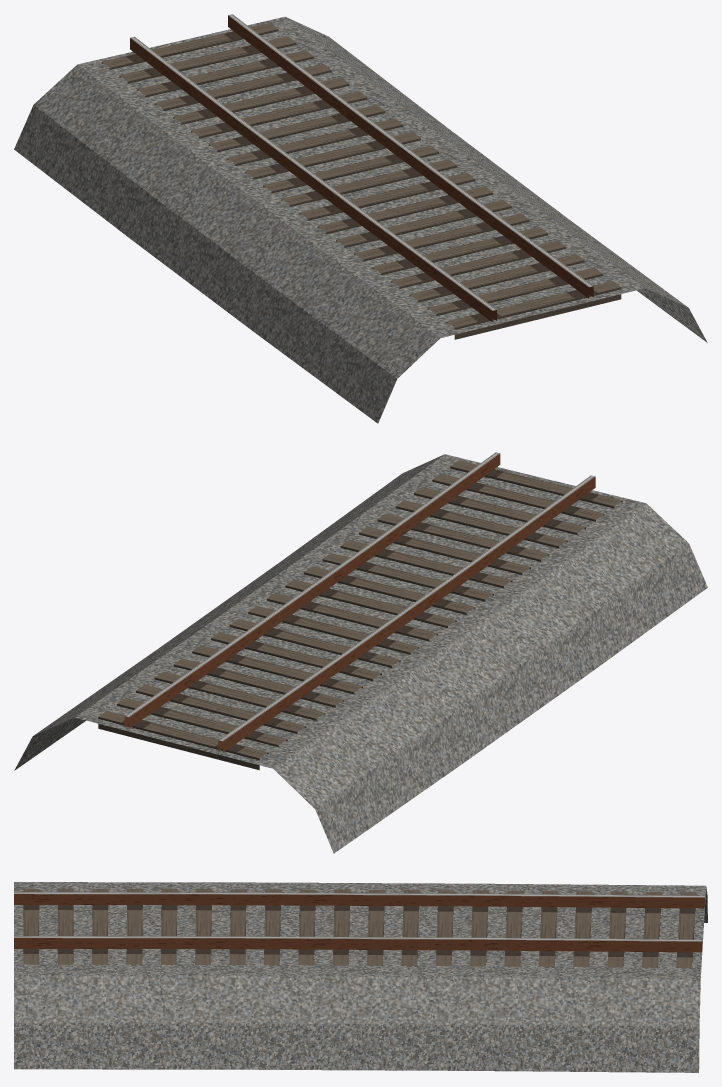
The model's file is rail_track_curve_r400_10m_r_v2_quest.glb.
The picture shows the model from 3 angles, top to bottom: view 1: azimuth 30°, elevation 25°; view 2: azimuth 150°, elevation 25°; view 3: azimuth 270°, elevation 25°; orthographic projection. The views are drawn at different scales.
Visible parts, largest first — view 1: rail_track_curve_r400_10m_r_v2_quest; view 2: rail_track_curve_r400_10m_r_v2_quest; view 3: rail_track_curve_r400_10m_r_v2_quest.
Boxes of the visible parts, x1=… form: rail_track_curve_r400_10m_r_v2_quest: x1=14, y1=14, x2=707, y2=423; rail_track_curve_r400_10m_r_v2_quest: x1=14, y1=452, x2=707, y2=853; rail_track_curve_r400_10m_r_v2_quest: x1=14, y1=882, x2=707, y2=1072.
Size of what is drawn, in the model's own units: 5.27 by 1.27 by 10.06.
2 materials, 2 textured.
